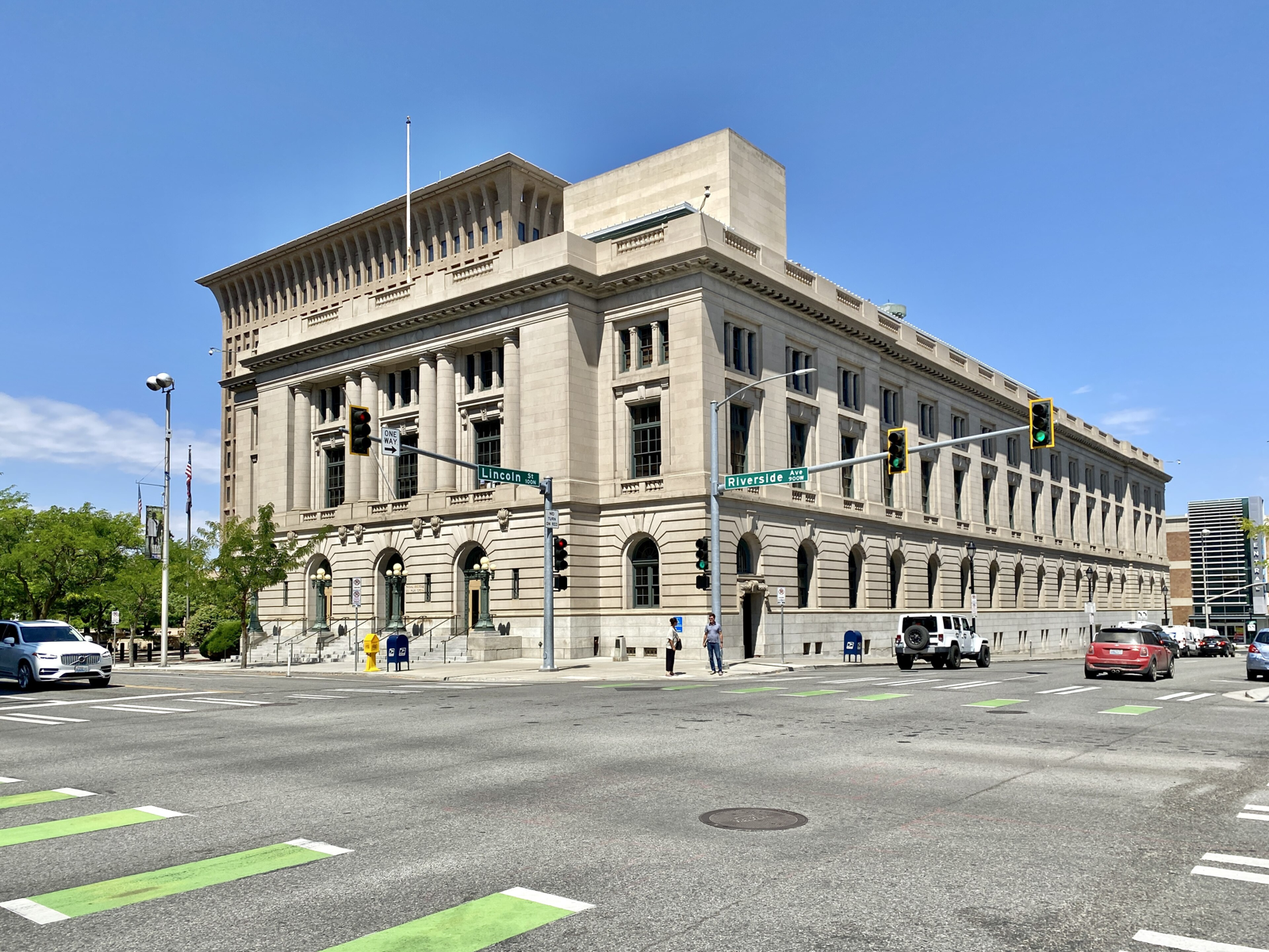fachada: (185, 130, 1169, 674), (1184, 489, 1264, 643)
poste: (685, 336, 841, 672), (127, 357, 211, 656), (526, 452, 571, 658)
